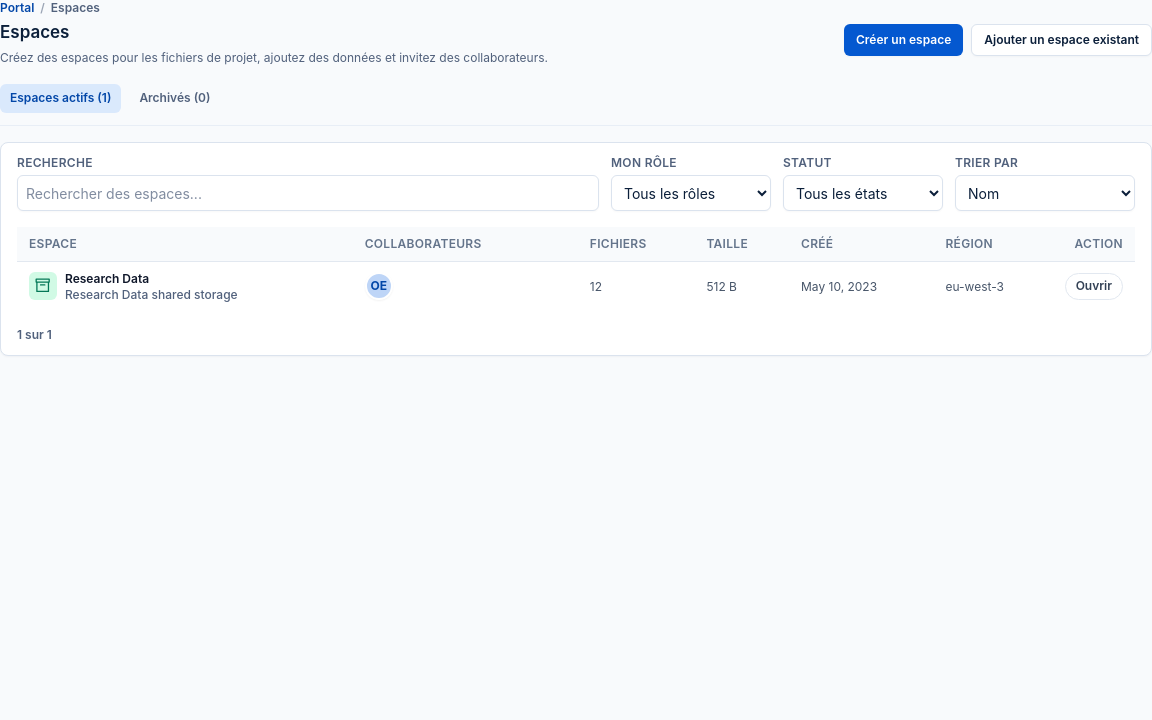
it: PortalStorageSpacesPage › renders the storage spaces page and its close guard in French when requested
The image size is (1152, 720).
Check: the heading "Espaces" is shown, box [0,20,70,44]
Click the button "Créer un espace". click: (904,40)
box: [844,24,963,56]
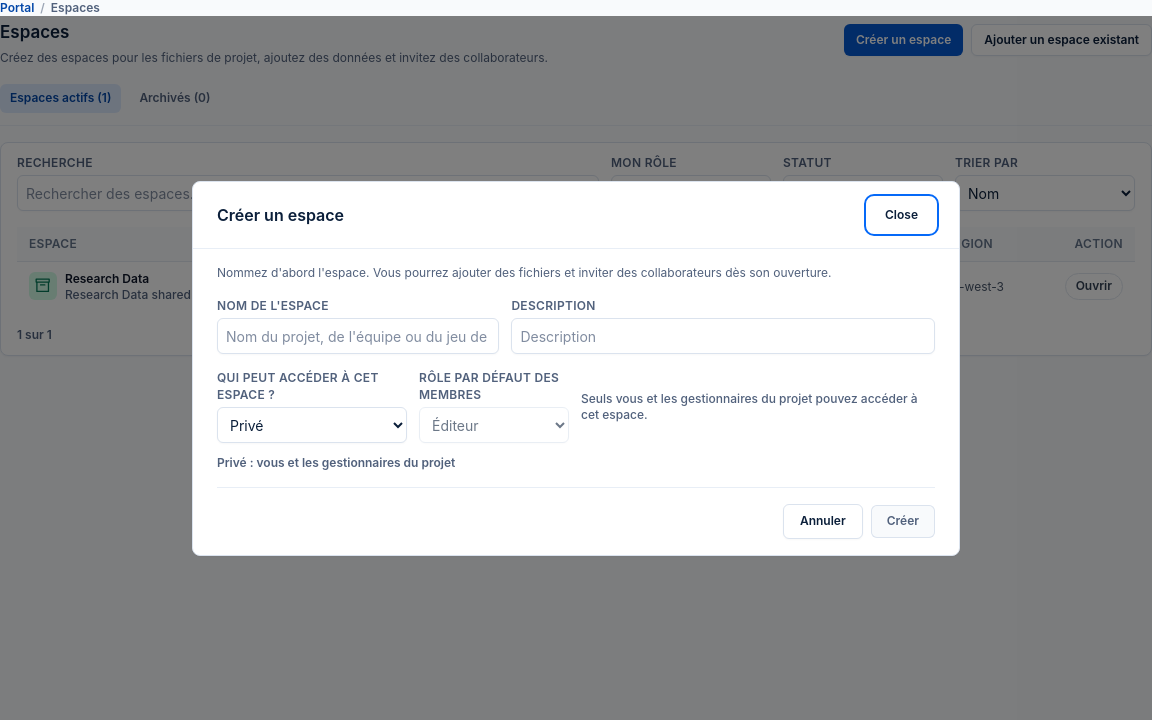
Type "Projet" into the field labelled "Nom de l'espace". click: (358,336)
box: [217,318,499,354]
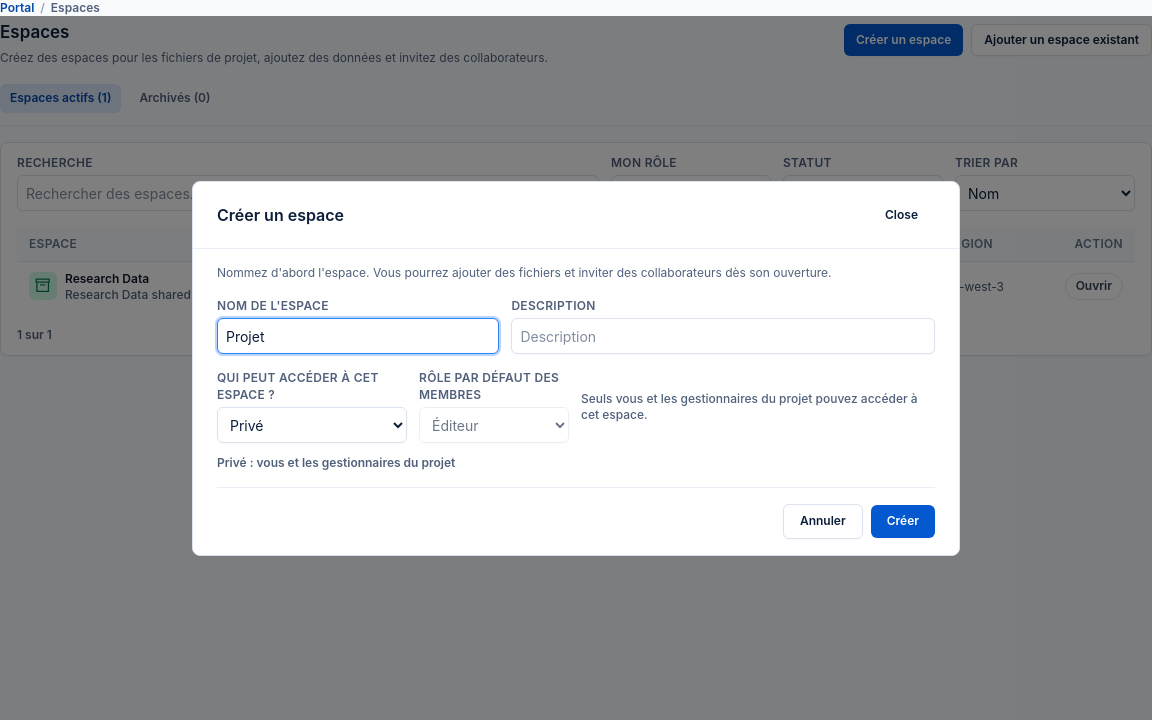
Click the button "Annuler". click: (823,521)
box: [783,504,863,538]
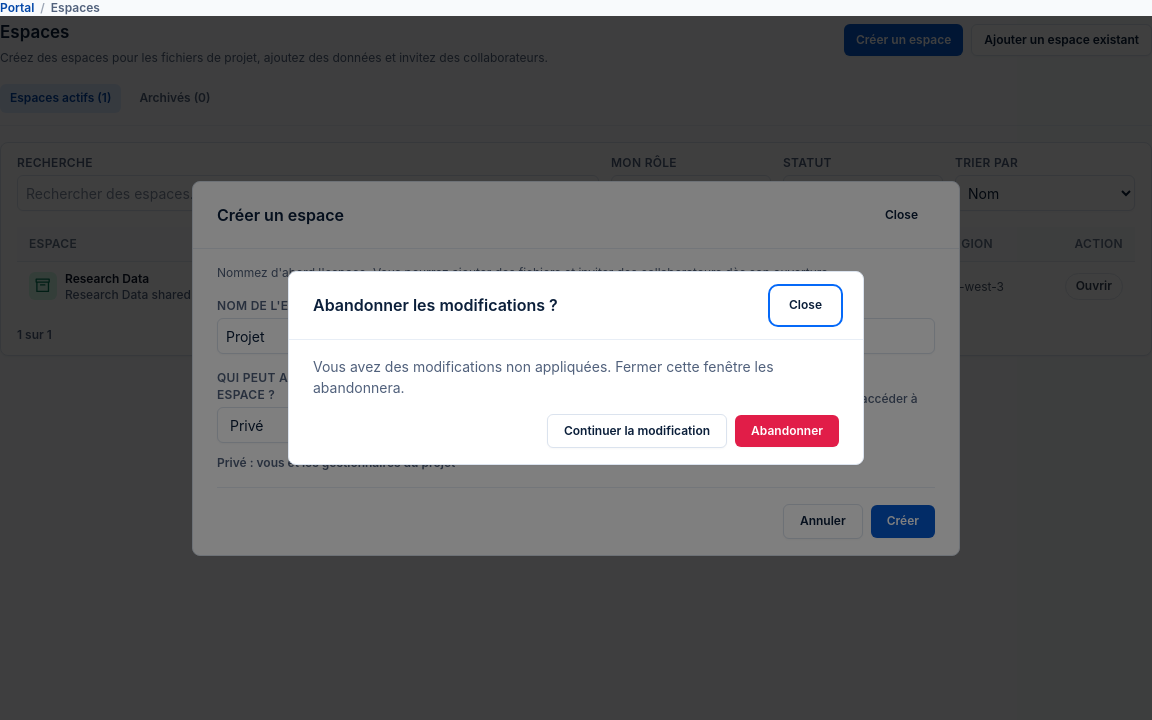
Check: the dialog "Abandonner les modifications ?" is shown, box [288,271,864,465]
